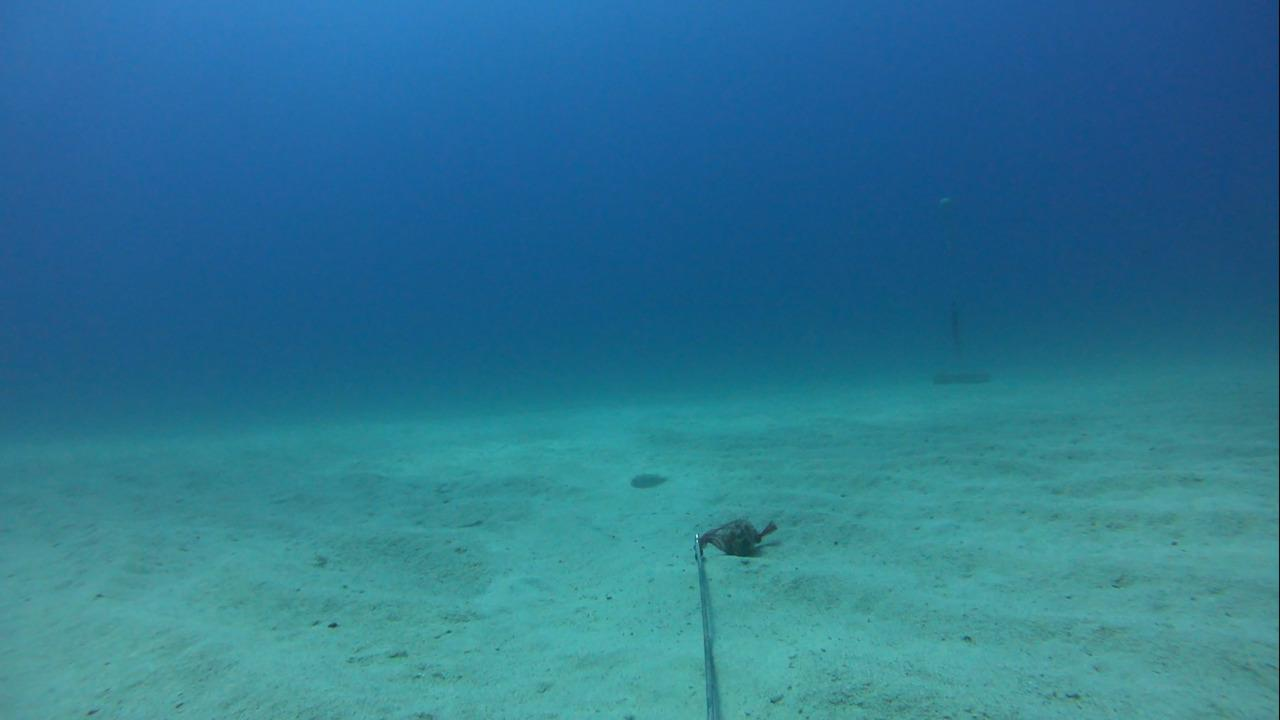raor: (617, 463, 672, 495)
